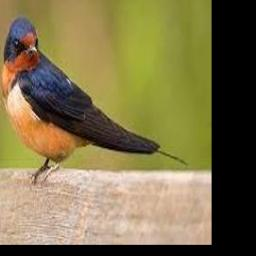Swallow: (0, 18, 188, 186)
